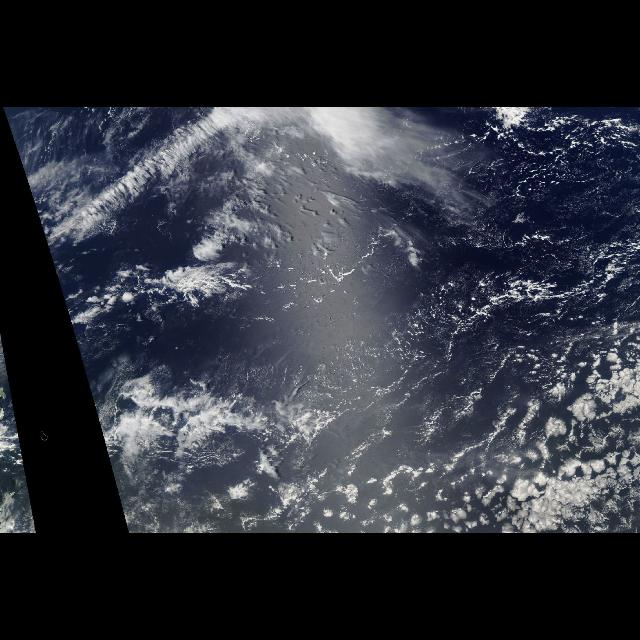Sugar: (287, 144, 639, 496)
